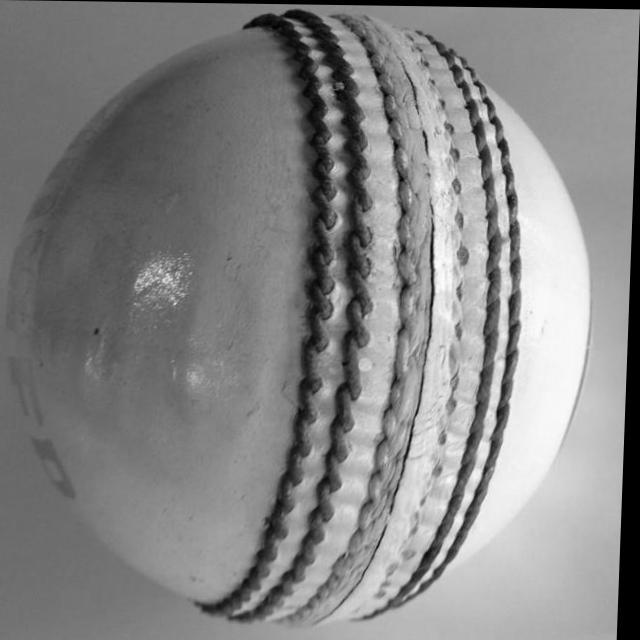cricket ball: (4, 5, 594, 629)
